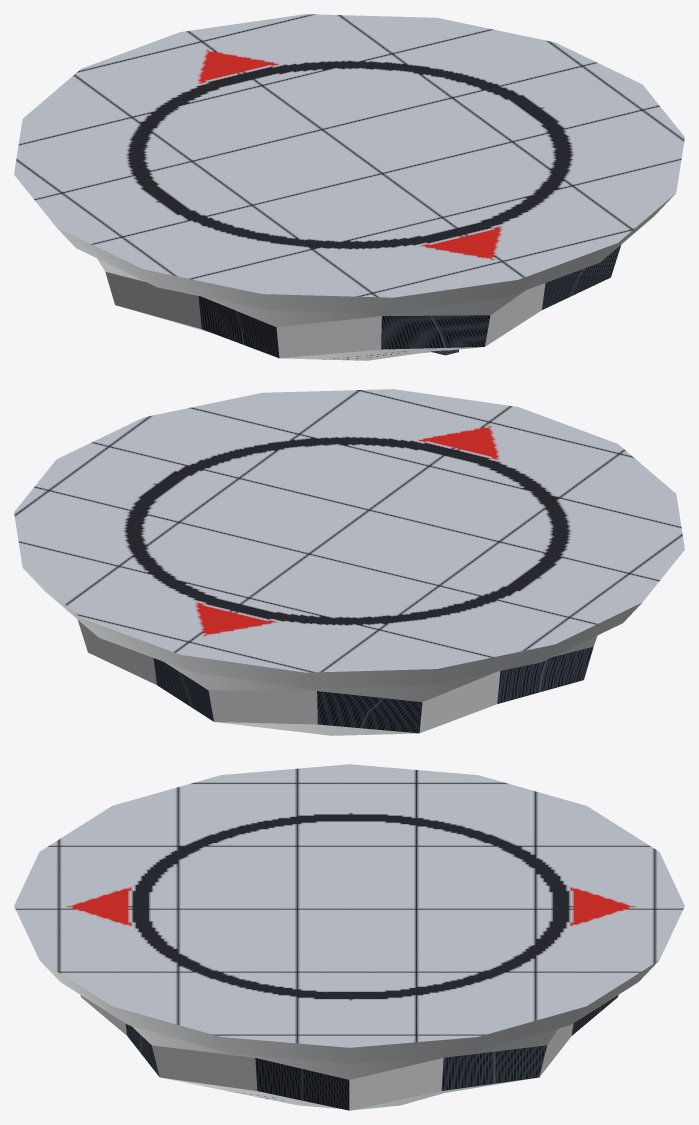
The model's file is SEC_Sensor_Smoke_Fire.fbx.
3 renders of one model, top to bottom at view 1: azimuth 30°, elevation 25°; view 2: azimuth 150°, elevation 25°; view 3: azimuth 270°, elevation 25°, orthographic.
Parts seen in each view (by area): view 1: SEC_Sensor_Smoke_Fire, Detector_Housing; view 2: SEC_Sensor_Smoke_Fire, Detector_Housing; view 3: SEC_Sensor_Smoke_Fire, Detector_Housing.
Boxes of the visible parts, x1,y1,x2,y2 form: SEC_Sensor_Smoke_Fire: (14, 14, 684, 313); Detector_Housing: (97, 245, 620, 360); SEC_Sensor_Smoke_Fire: (14, 389, 684, 688); Detector_Housing: (78, 620, 597, 735); SEC_Sensor_Smoke_Fire: (14, 764, 684, 1063); Detector_Housing: (80, 995, 618, 1110).
Bounding box in the file's own units: 12 × 3.1 × 12.
